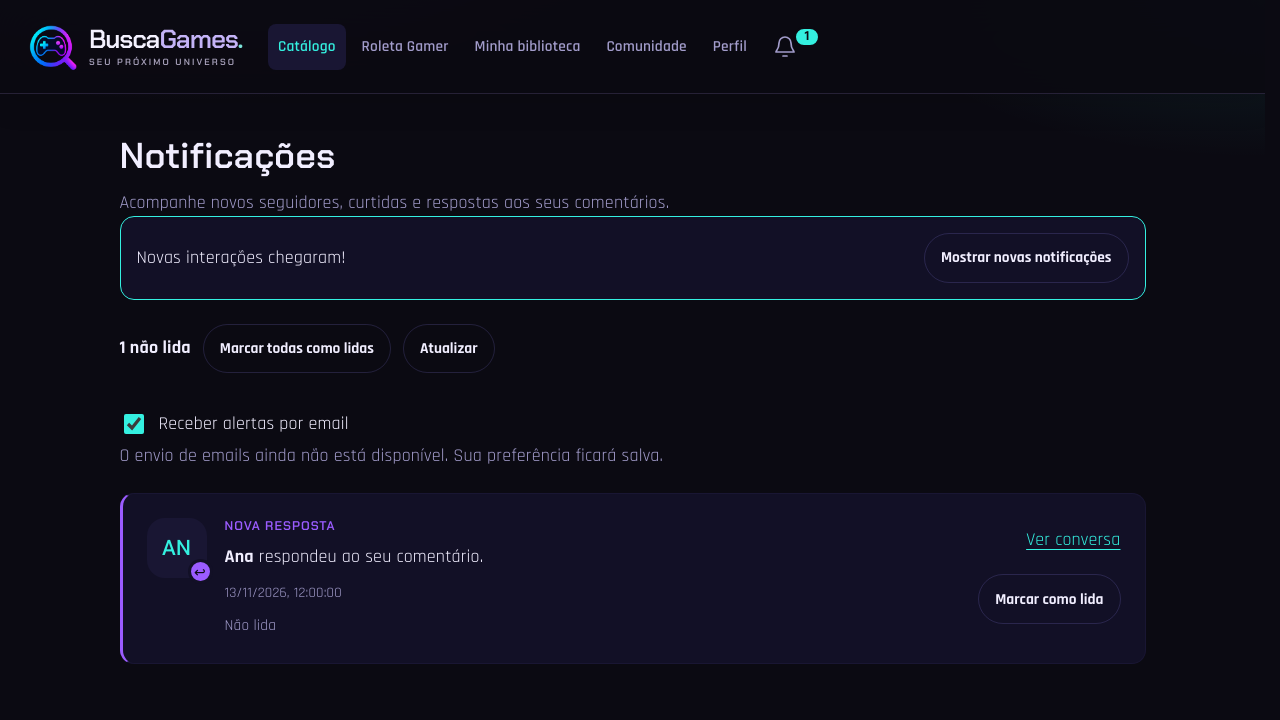
Test: anuncia novas interações sem trocar a lista durante a leitura
Expected: the text "Não lida" is shown, [224, 616, 276, 634]
Expected: the text "Novas interações chegaram!" is shown, [136, 246, 346, 269]
Click the button "Mostrar novas notificações".
click(1026, 258)  # box [924, 233, 1128, 283]
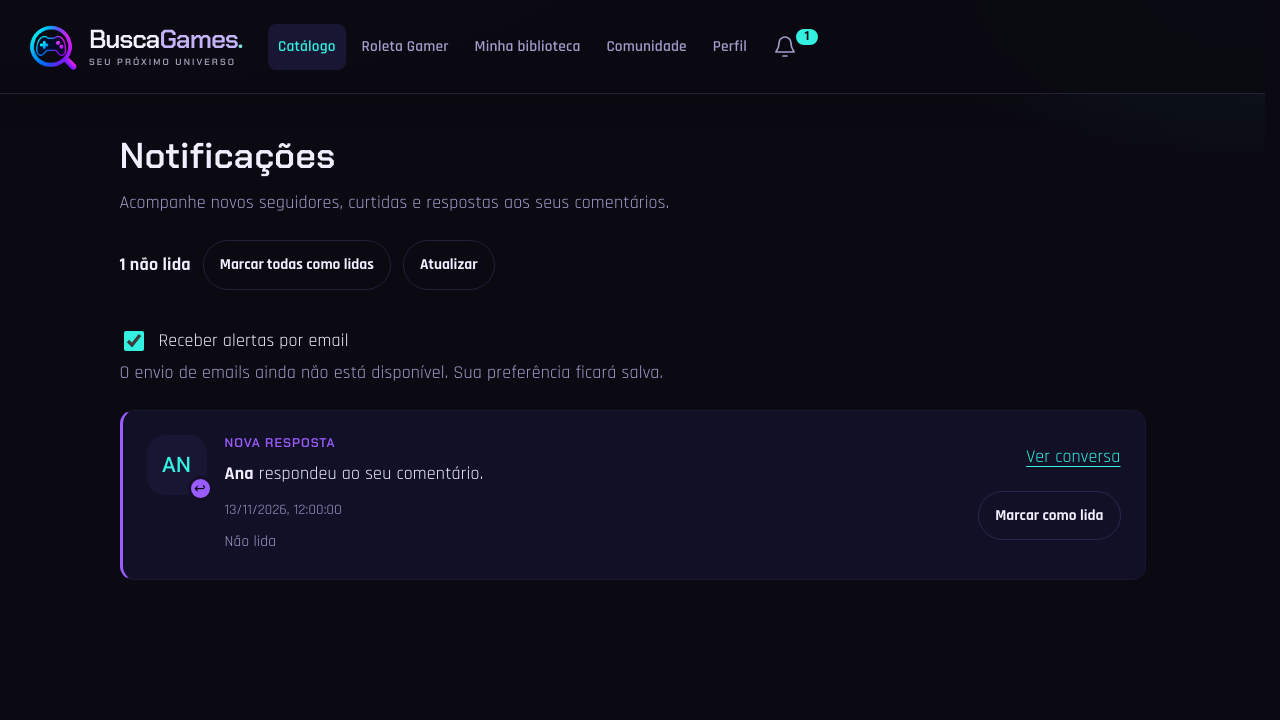
Expected: the text "Não lida" is shown, [224, 532, 276, 551]
Now the text "Novas interações chegaram!" is gone
